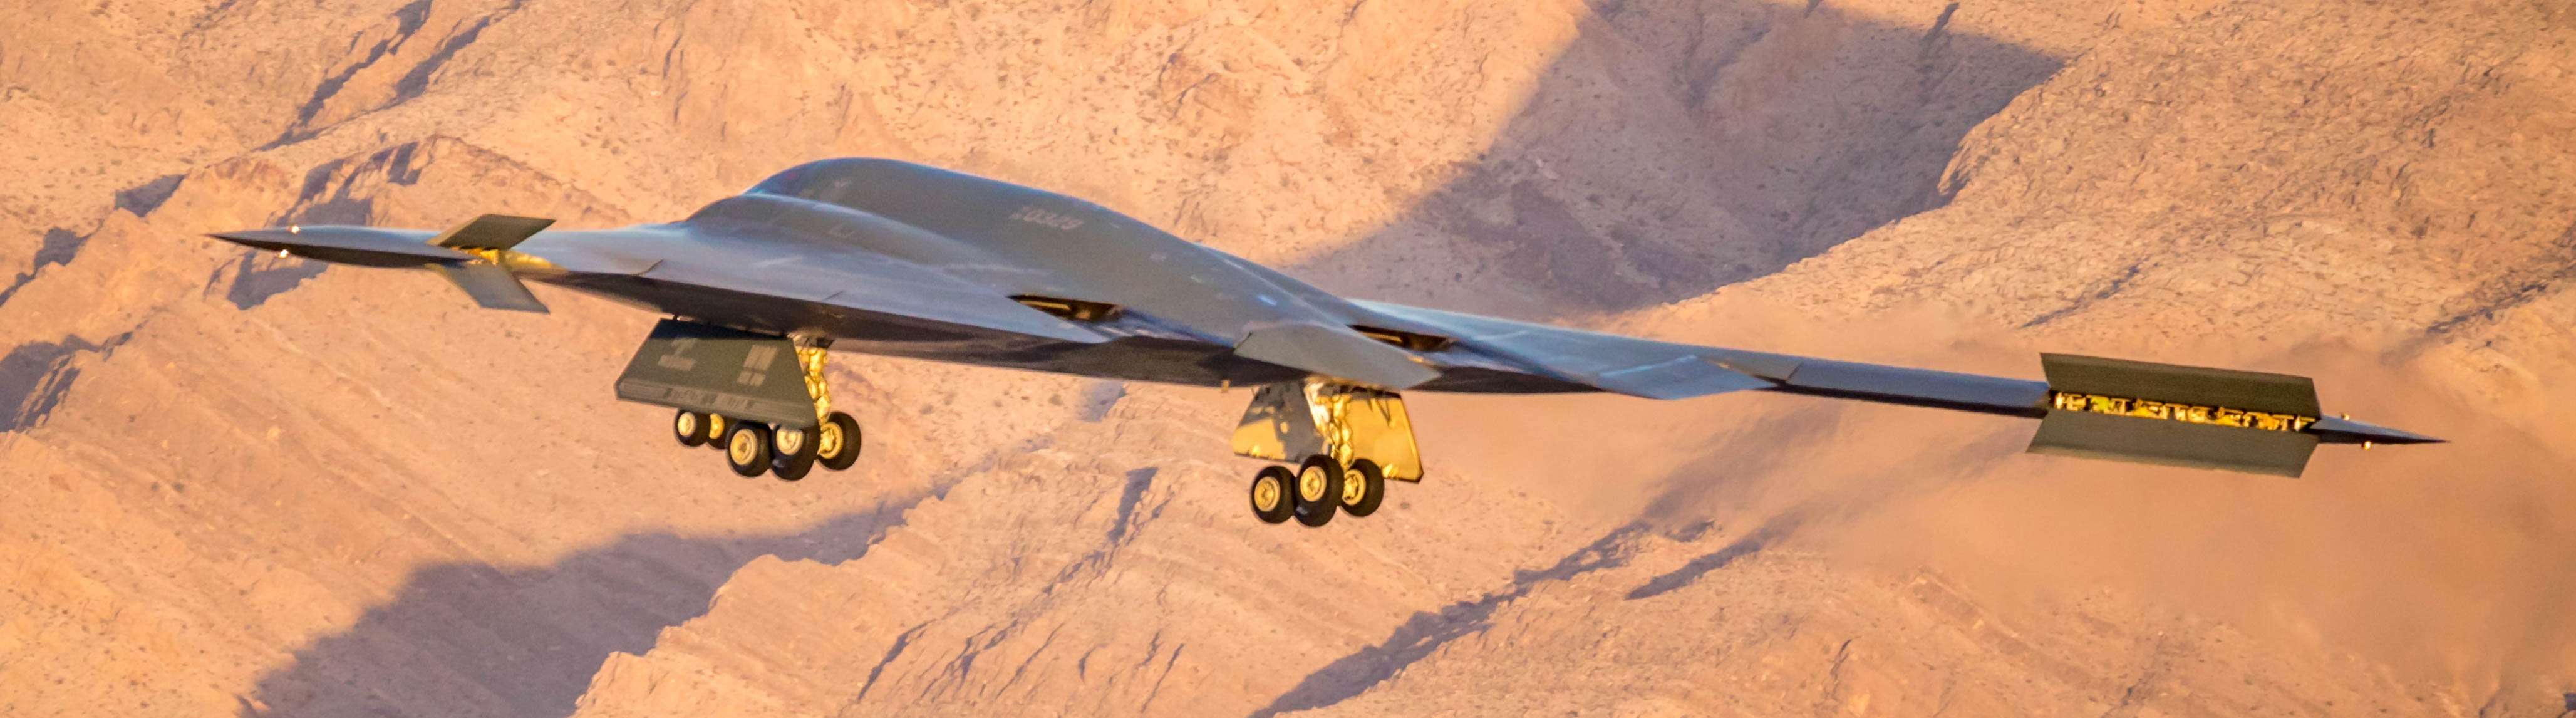B2: (197, 156, 2454, 527)
